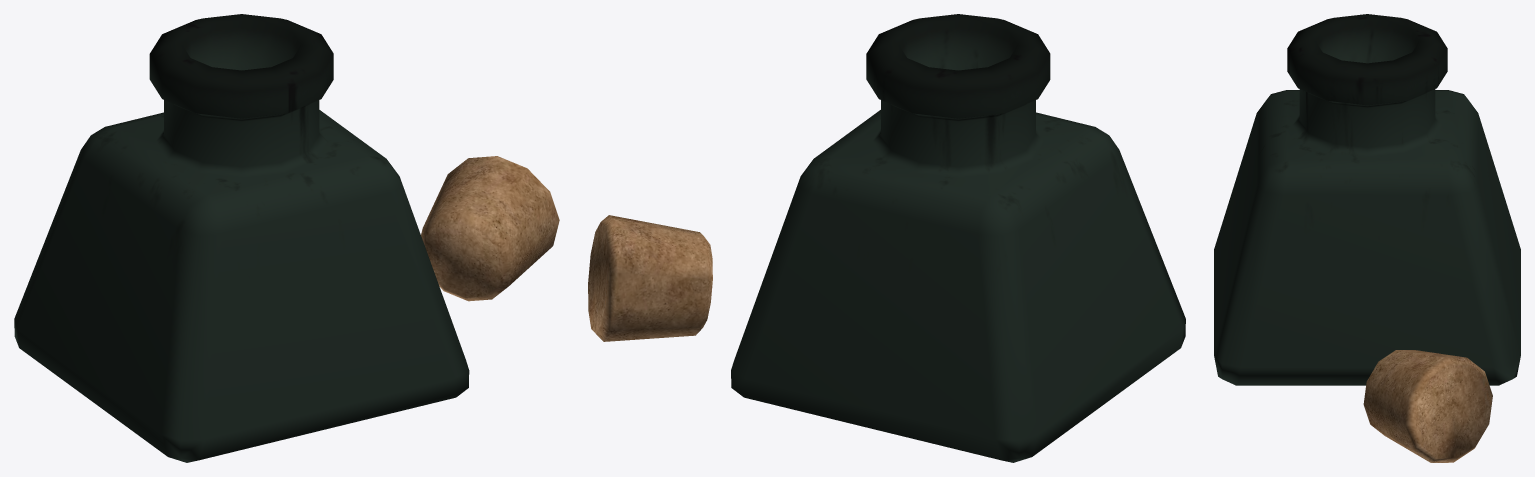
Rendered from ink-bottle.glb.
3 views of the same model, side by side, from view 1: azimuth 30°, elevation 25°; view 2: azimuth 150°, elevation 25°; view 3: azimuth 270°, elevation 25° (orthographic). The views are drawn at different scales.
Parts seen in each view (by area): view 1: InkBottle, Cork; view 2: InkBottle, Cork; view 3: InkBottle, Cork.
Part boxes in pixels (x1,y1,x2,y2): InkBottle: [14, 14, 469, 462]; Cork: [421, 156, 559, 301]; InkBottle: [731, 14, 1185, 462]; Cork: [588, 215, 712, 341]; InkBottle: [1214, 14, 1520, 385]; Cork: [1363, 350, 1492, 462].
Bounding box in the file's own units: 155 × 99.62 × 95.89.
Materials: 2 (2 with a texture image).
